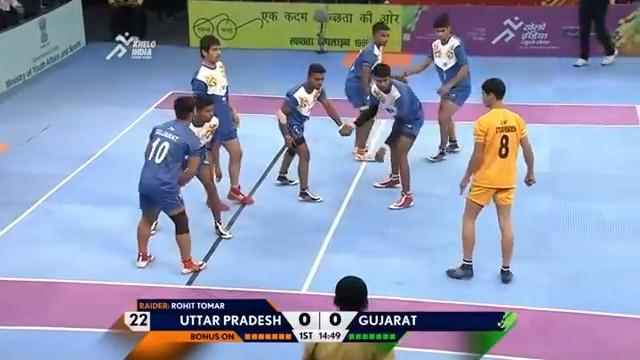Player: (135, 95, 207, 274), (394, 13, 471, 161), (189, 34, 254, 207), (274, 62, 353, 202), (363, 62, 425, 209), (343, 21, 391, 161)
Raider: (445, 77, 536, 283)
referee: (572, 0, 618, 67), (108, 0, 147, 45)
